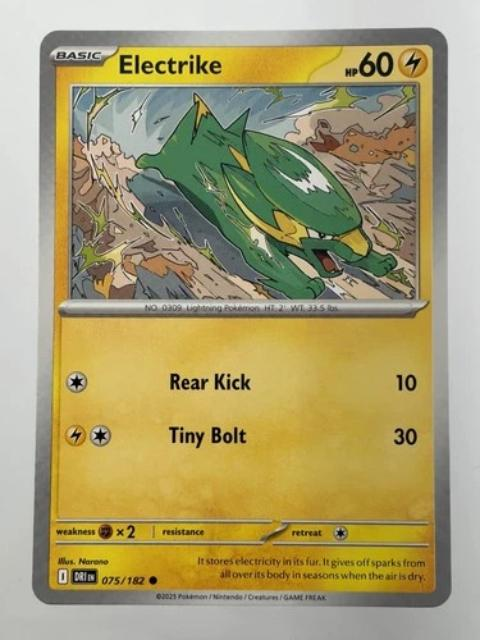Card: (26, 22, 457, 609)
Name: (113, 50, 228, 82)
